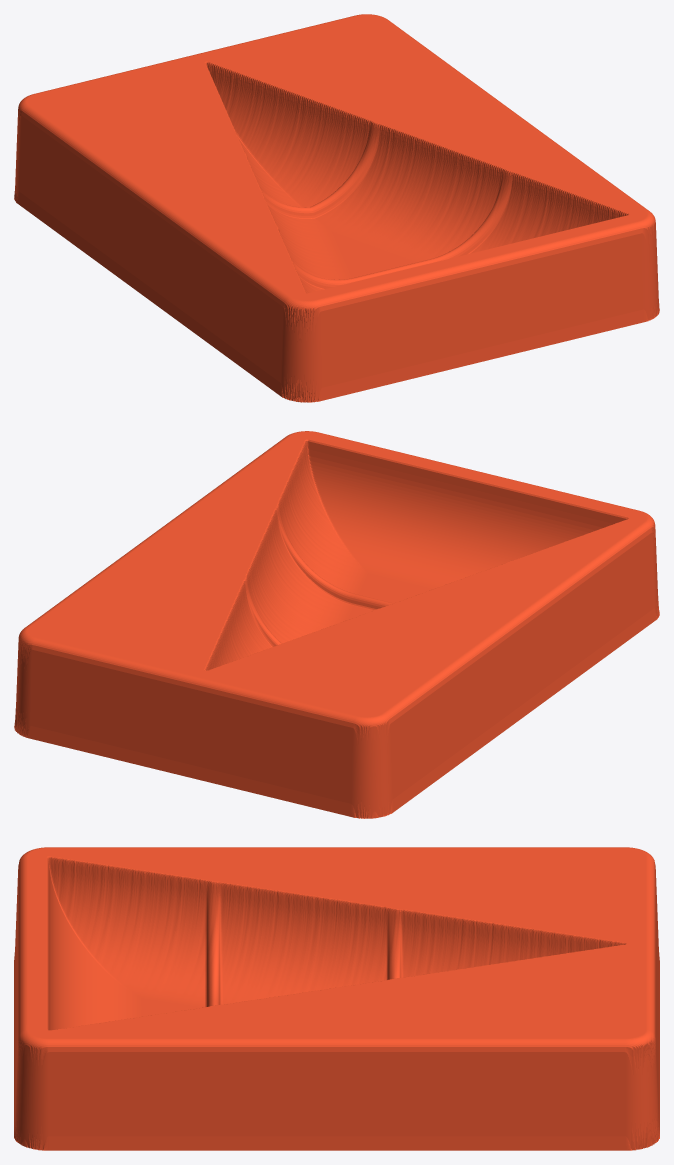
The model's file is mold.glb.
The picture shows the model from 3 angles, top to bottom: view 1: azimuth 30°, elevation 25°; view 2: azimuth 150°, elevation 25°; view 3: azimuth 270°, elevation 25°; orthographic projection. The views are drawn at different scales.
Parts seen in each view (by area): view 1: geometry_0; view 2: geometry_0; view 3: geometry_0.
Part boxes in pixels (left/top/right/bottom): geometry_0: left=14, top=14, right=659, bottom=402; geometry_0: left=14, top=431, right=659, bottom=818; geometry_0: left=14, top=847, right=659, bottom=1150.
Bounding box in the file's own units: 0.1265 × 0.031 × 0.1709.
